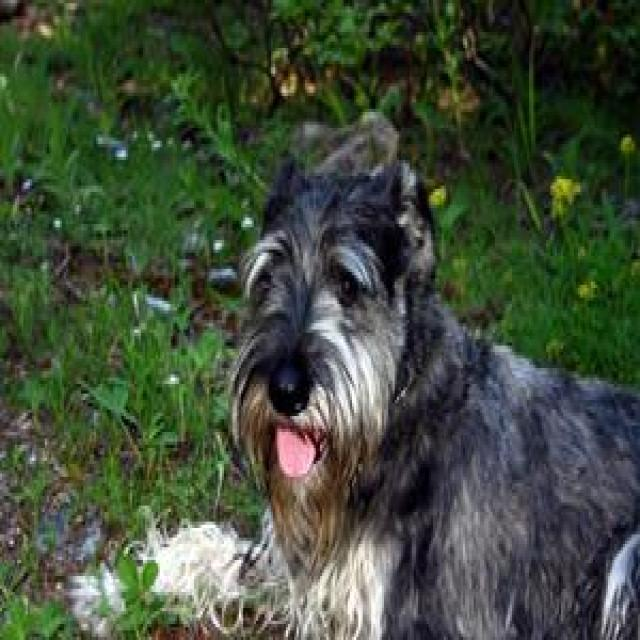standard_schnauzer: (222, 92, 636, 634)
